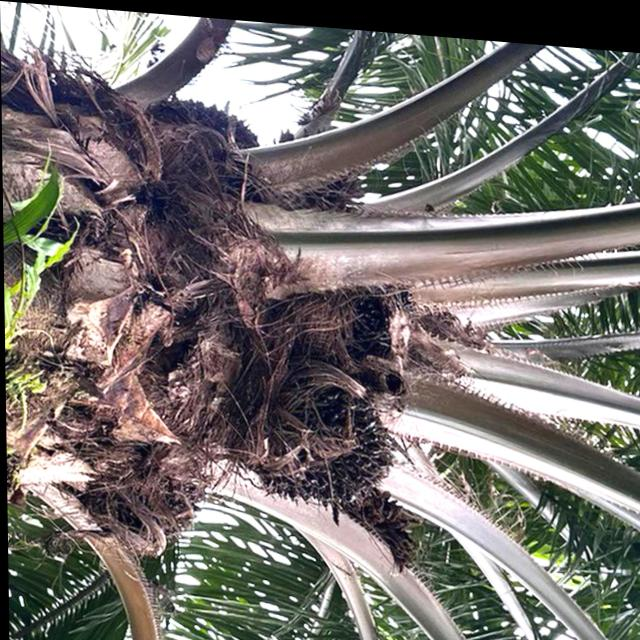unripe: (247, 355, 403, 518), (331, 262, 424, 378)
